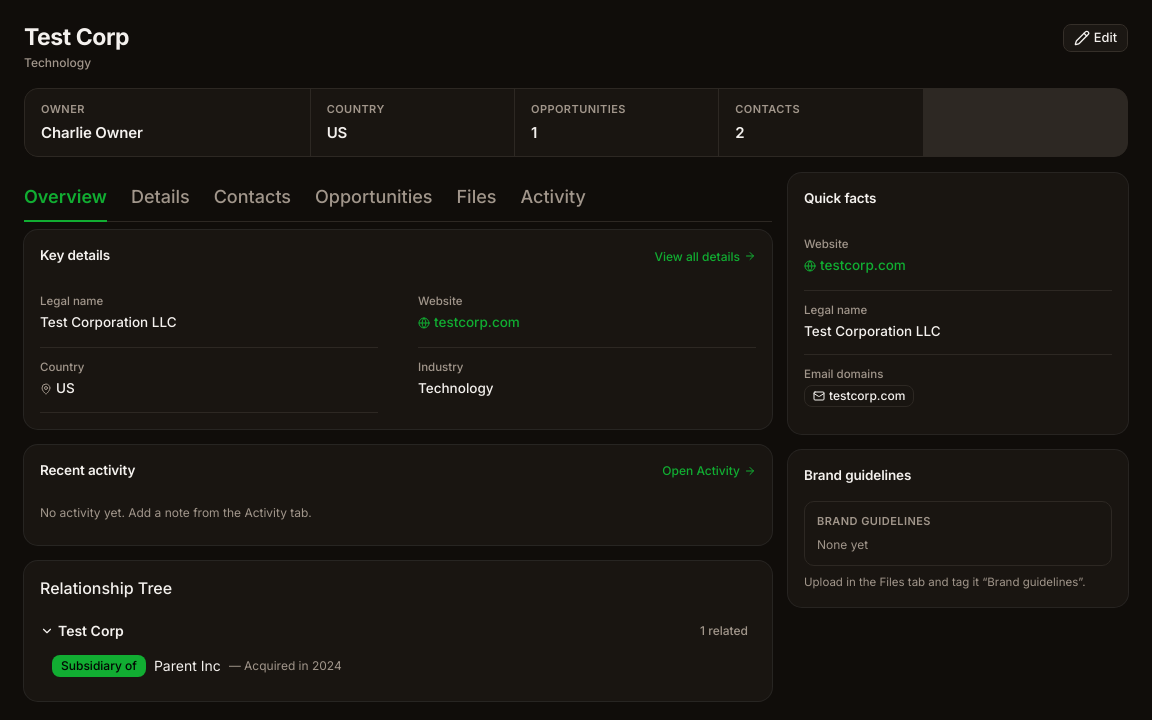
Test: AccountDetailWrapper › contacts tab › lists contacts with titles, links and the Primary badge
Click the tab "Contacts": {"x": 252, "y": 198} [214,173,291,222]
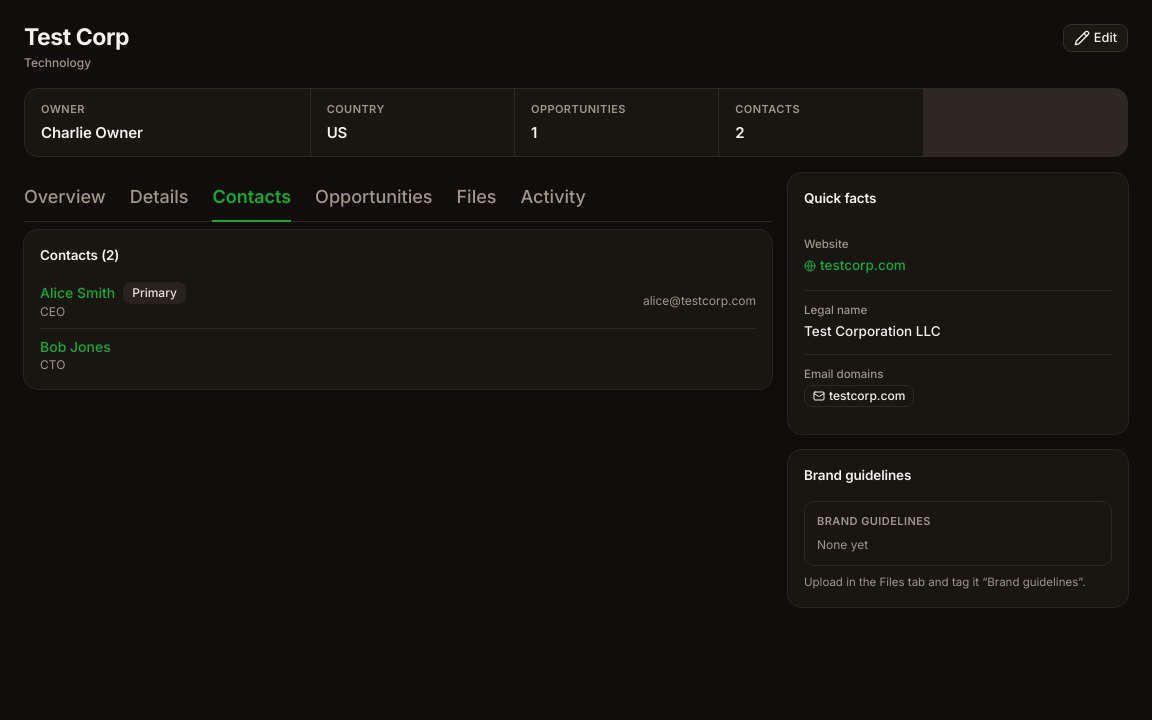
Expected: the text "Contacts (2)" is shown, [40,246,119,266]
Expected: the link "Alice Smith" is shown, [40,283,115,303]
Expected: the link "Bob Jones" is shown, [40,337,111,357]
